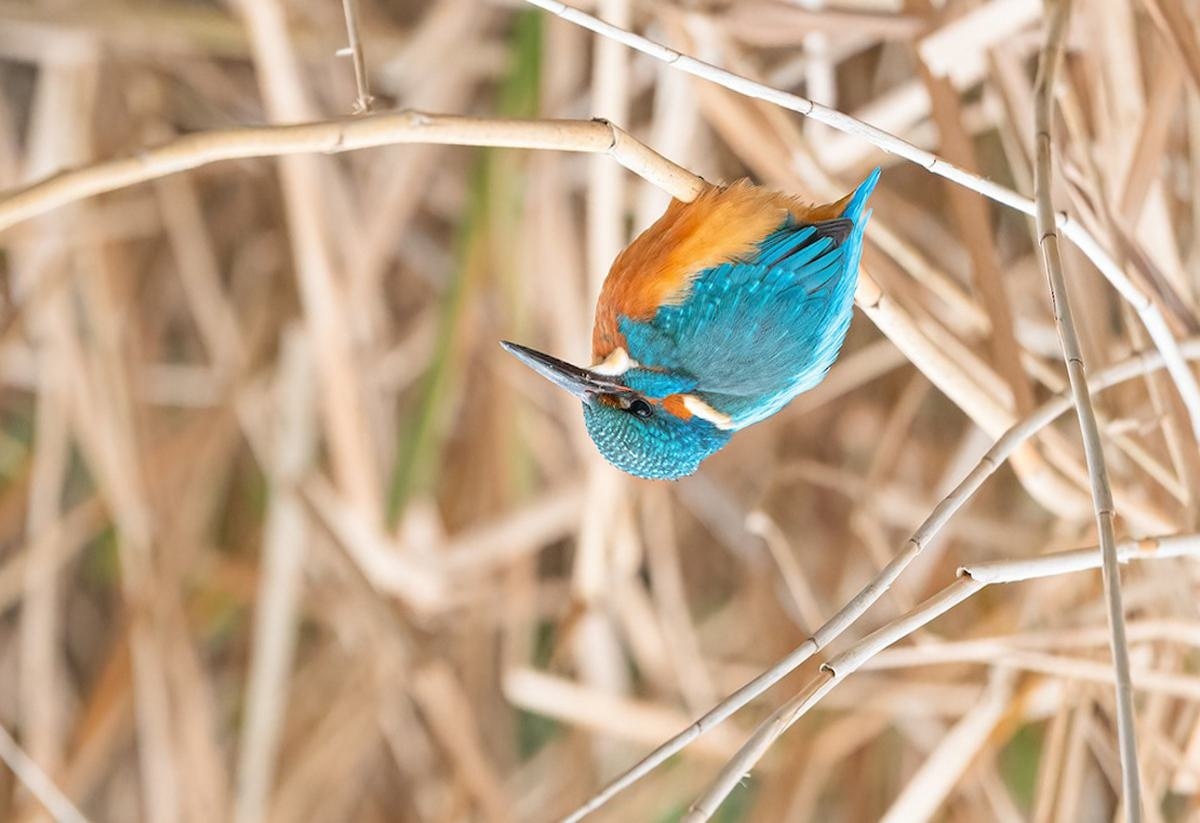kingfisher: (490, 163, 888, 498)
